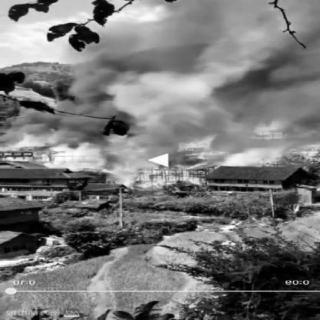Fire: (112, 167, 174, 191), (252, 116, 302, 138), (173, 136, 223, 152)
Smoke: (120, 4, 314, 138), (8, 103, 51, 131)
